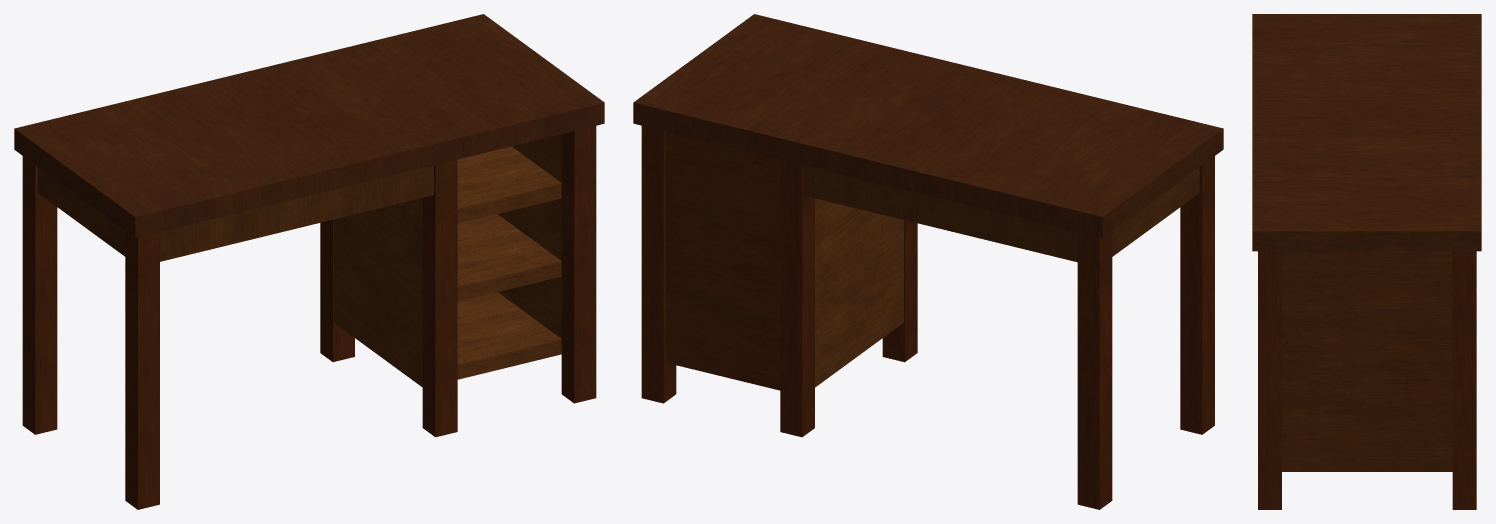
File: office desk.FBX
3 renders of one model, left to right at view 1: azimuth 30°, elevation 25°; view 2: azimuth 150°, elevation 25°; view 3: azimuth 270°, elevation 25°, orthographic. The views are drawn at different scales.
Visible parts, largest first — view 1: office desk; view 2: office desk; view 3: office desk.
Part boxes in pixels (box(x1,y1,x2,y2)): office desk: box(14, 14, 604, 509); office desk: box(633, 14, 1223, 509); office desk: box(1252, 14, 1481, 509).
Bounding box in the file's own units: 150 × 90.46 × 66.95.
Materials: 1 (1 with a texture image).
